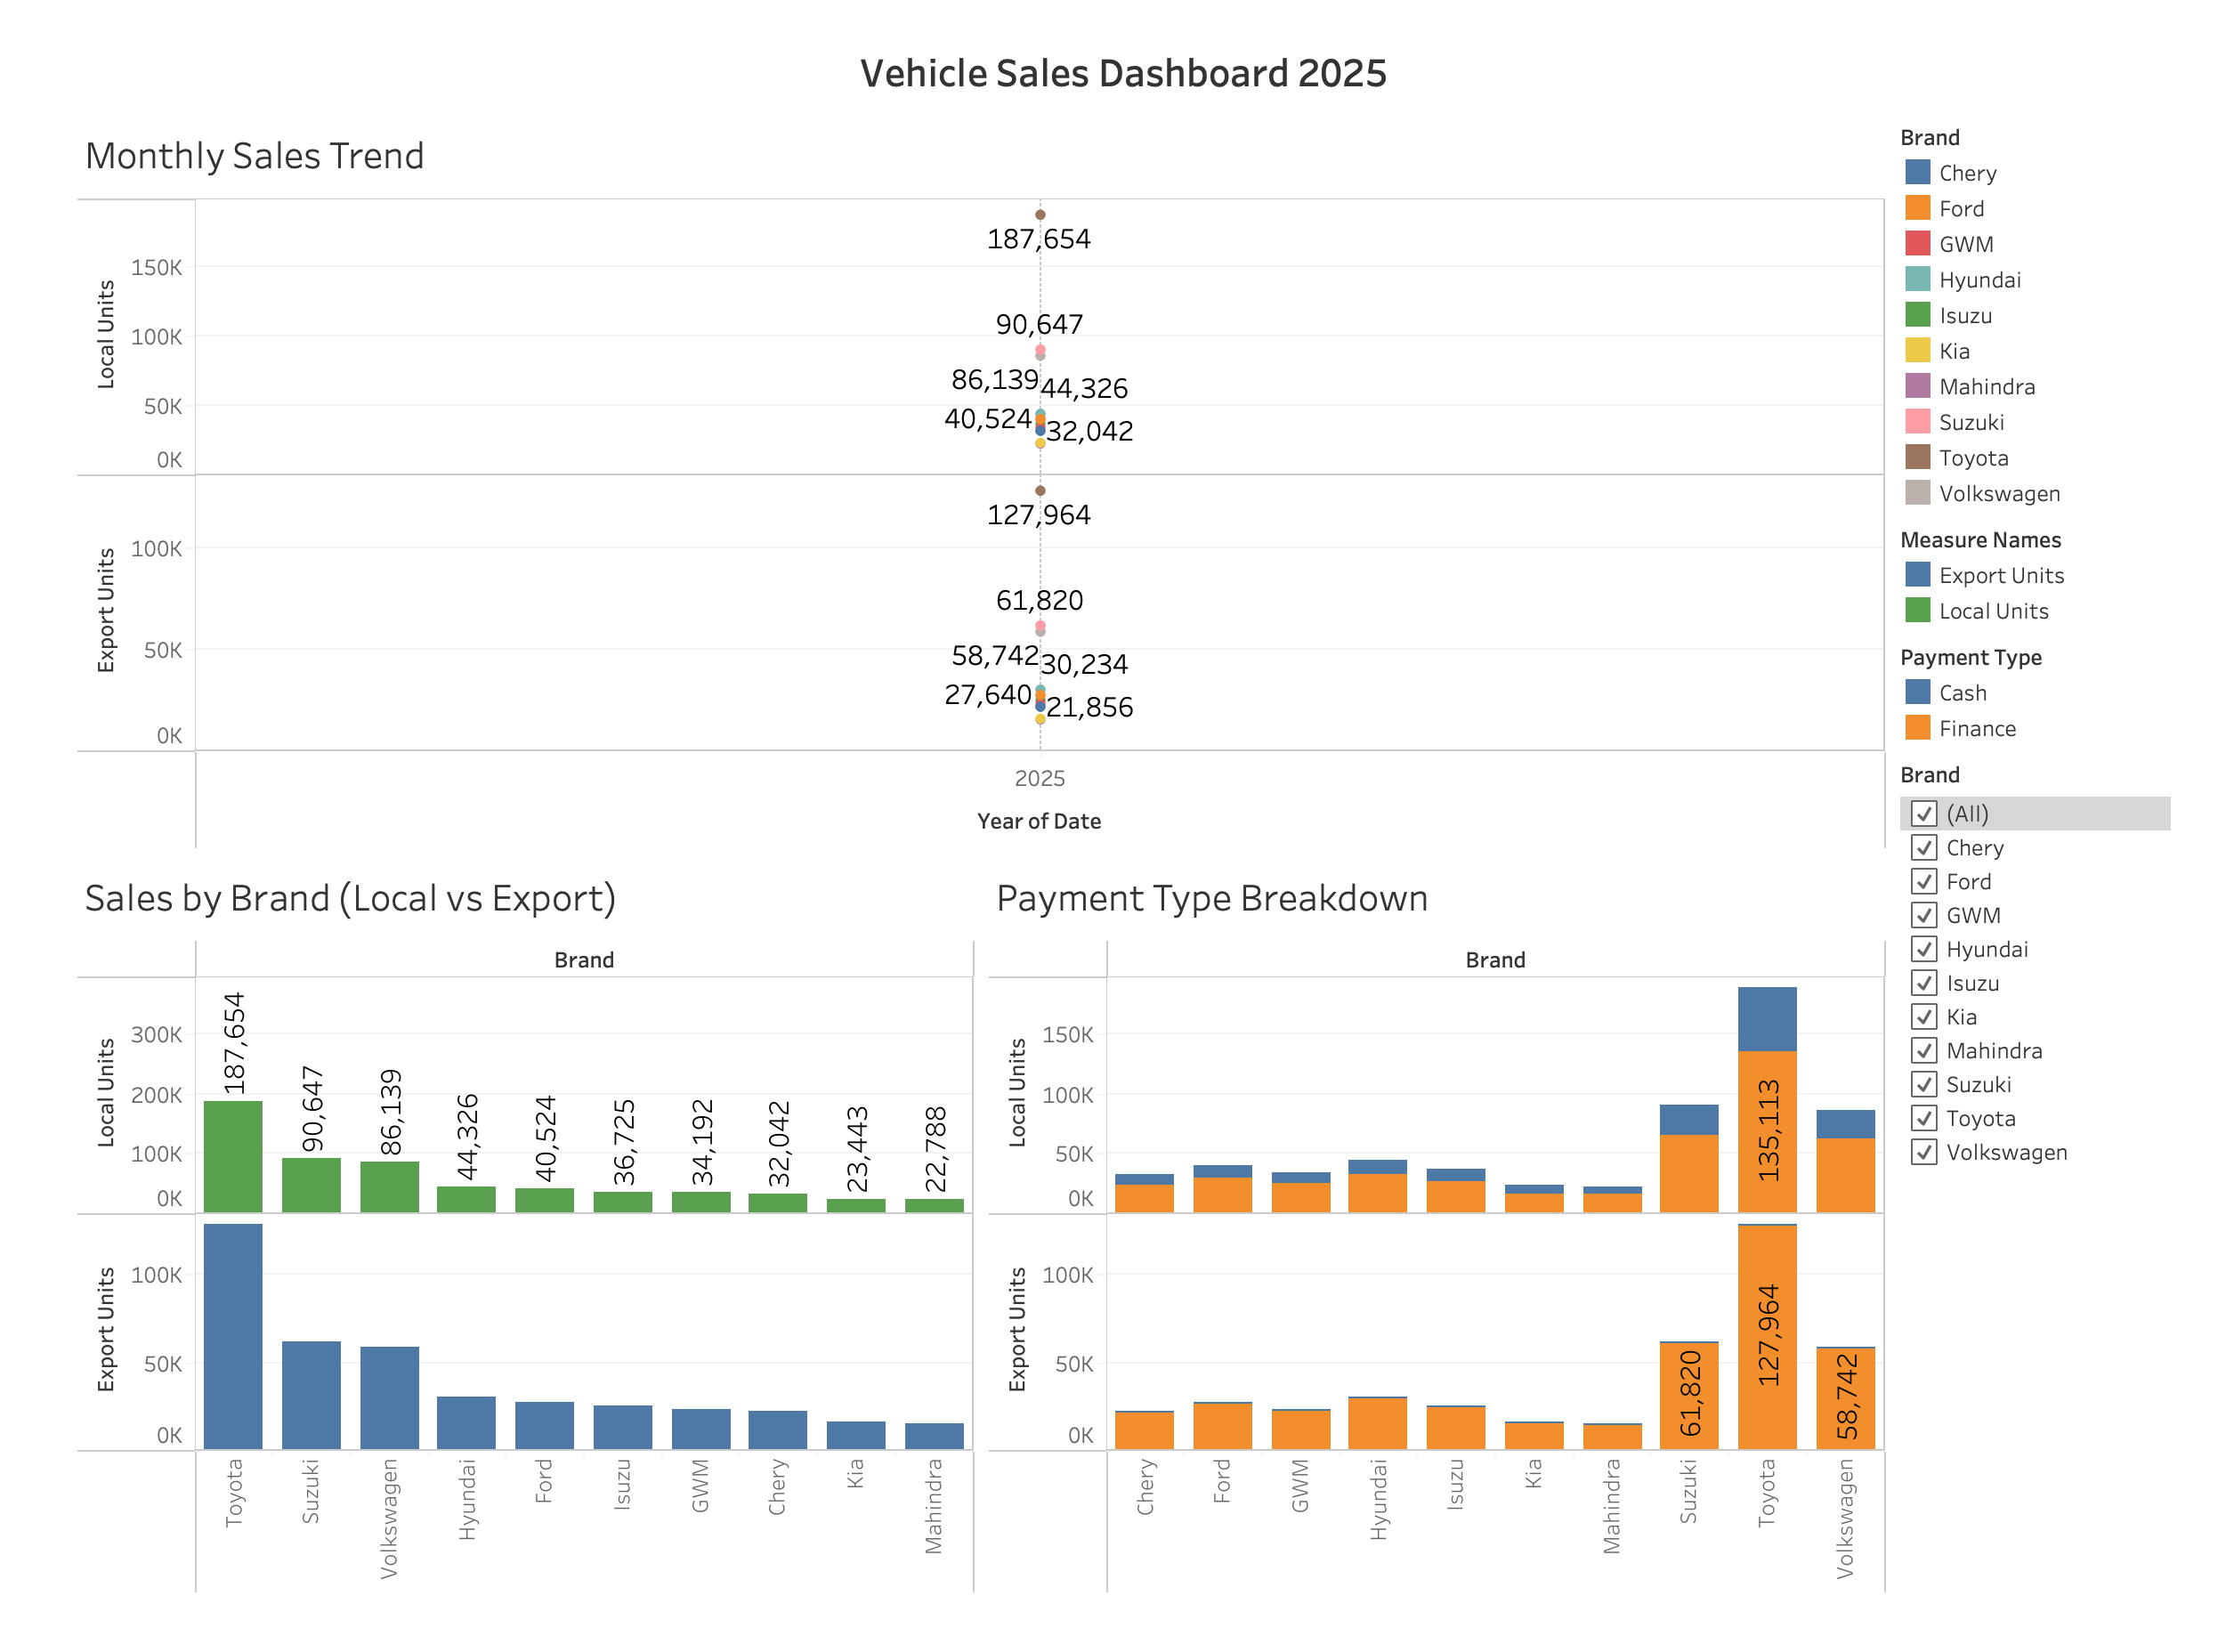

The page's visual inventory and layout, read from the dashboard file:
{"tool":"tableau","page":{"name":"Vehicle Sales Dashboard 2025","canvas":[1200,900],"ordinal":0},"visuals":[{"type":"title","box":[8,8,1184,49]},{"type":"worksheet","title":"Monthly Sales Trend","mark":"Line","rows":["local_units","export_units"],"cols":["date"],"box":[8,57,1024,417.5]},{"type":"legend","title":"Monthly Sales Trend","param":"[federated.10yflt80xfdlbc12iibtp1ghfcmz].[none:brand:nk]","box":[1032,57,160,226]},{"type":"legend","title":"Sales by Brand (Local vs Export)","param":"[federated.10yflt80xfdlbc12iibtp1ghfcmz].[:Measure Names]","box":[1032,283,160,66]},{"type":"legend","title":"Payment Type Breakdown","param":"[federated.10yflt80xfdlbc12iibtp1ghfcmz].[none:payment_type:nk]","box":[1032,349,160,66]},{"type":"filter","title":"Sales by Brand (Local vs Export)","param":"[federated.10yflt80xfdlbc12iibtp1ghfcmz].[none:brand:nk]","box":[1032,415,160,241]},{"type":"worksheet","title":"Sales by Brand (Local vs Export)","mark":"Automatic","rows":["local_units","export_units"],"cols":["brand"],"box":[8,474.5,512,417.5]},{"type":"worksheet","title":"Payment Type Breakdown","mark":"Automatic","rows":["local_units","export_units"],"cols":["brand"],"box":[520,474.5,512,417.5]}]}

Visuals, with their boxes in screenshot pixels (x1, y1, x2, y2), scaled from the page's 1200x900 canvas onto the 2226x1652 screenshot:
title: [15,14,2211,105]
"Monthly Sales Trend" worksheet (Line marks): [15,105,1914,871]
"Monthly Sales Trend" legend: [1914,105,2211,520]
"Sales by Brand (Local vs Export)" legend: [1914,520,2211,641]
"Payment Type Breakdown" legend: [1914,641,2211,762]
"Sales by Brand (Local vs Export)" filter: [1914,762,2211,1204]
"Sales by Brand (Local vs Export)" worksheet: [15,871,965,1638]
"Payment Type Breakdown" worksheet: [965,871,1914,1638]
